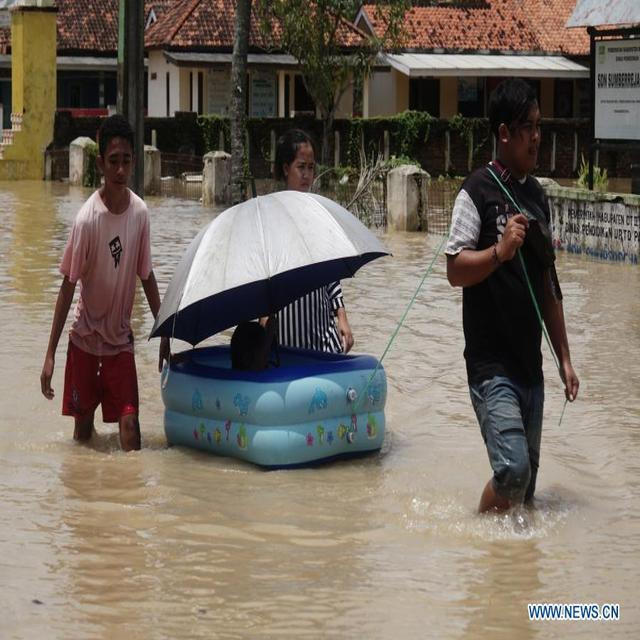Person-RiskLevel2: (444, 73, 585, 520), (42, 113, 172, 466), (258, 123, 360, 354)
